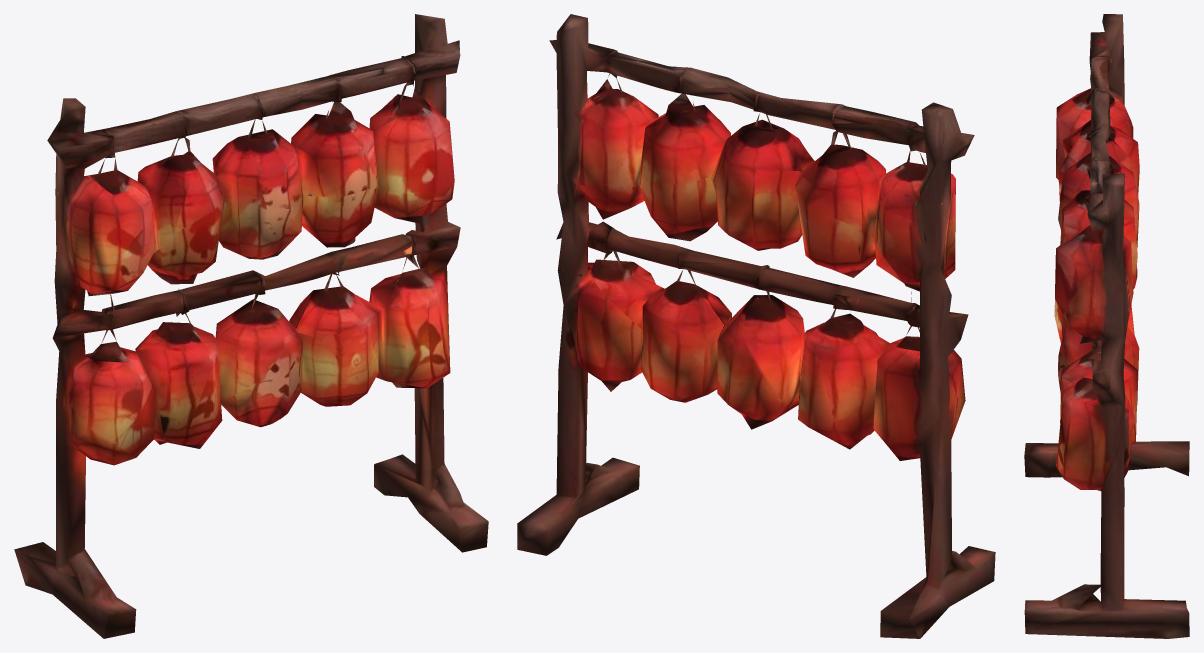
The model's file is y_lanternpole.glb.
3 views of the same model, side by side, from view 1: azimuth 30°, elevation 25°; view 2: azimuth 150°, elevation 25°; view 3: azimuth 270°, elevation 25° (orthographic). The views are drawn at different scales.
Parts seen in each view (by area): view 1: tripo_node_fd2a264f-8daf-47c6-9873-21552c676a17; view 2: tripo_node_fd2a264f-8daf-47c6-9873-21552c676a17; view 3: tripo_node_fd2a264f-8daf-47c6-9873-21552c676a17.
Boxes of the visible parts, bbox=[...] form: tripo_node_fd2a264f-8daf-47c6-9873-21552c676a17: bbox=[14, 14, 488, 638]; tripo_node_fd2a264f-8daf-47c6-9873-21552c676a17: bbox=[517, 14, 995, 638]; tripo_node_fd2a264f-8daf-47c6-9873-21552c676a17: bbox=[1024, 14, 1189, 638].
Bounding box in the file's own units: 0.8582 × 1 × 0.3273.
1 material, 1 textured.
